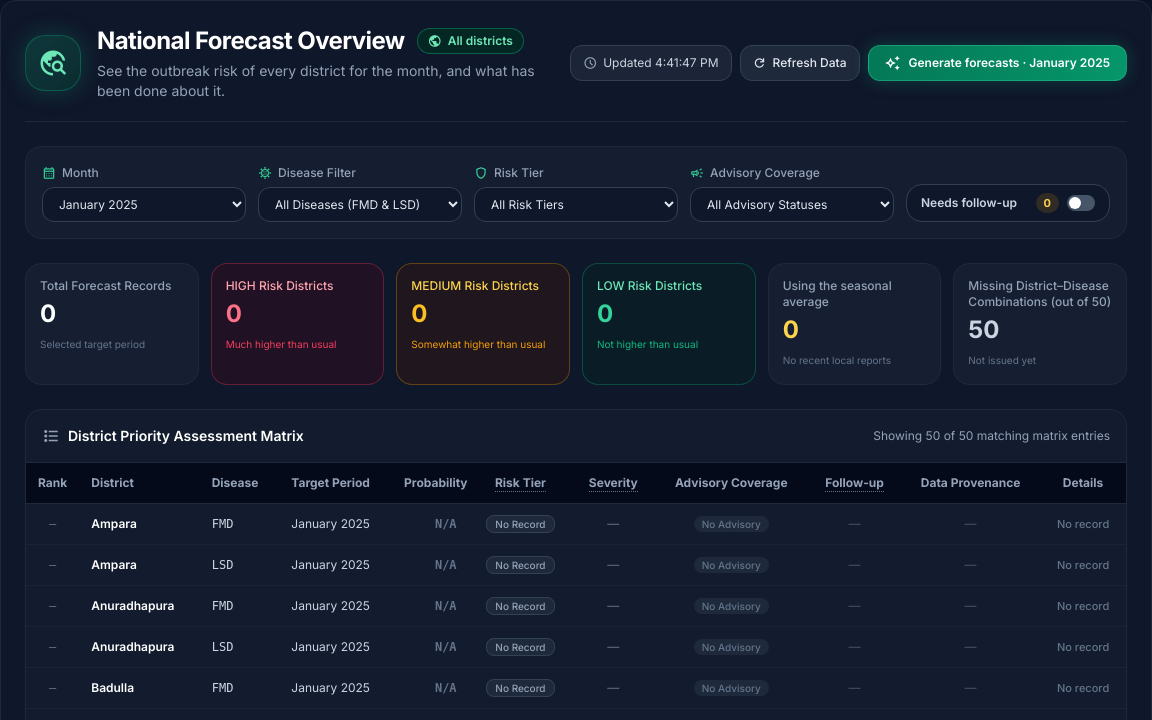
Scenario: DaphNationalForecastOverview Component › Target Period & Zero Fabrication Policy › displays clear empty state when a filter combination genuinely produces no final rows
The image size is (1152, 720).
Check: the heading "District Priority Assessment Matrix" is shown, box top-left (68, 426), bottom-right (304, 446)
Filter by HIGH risk, which will eliminate the NO_RECORD rows
Select "HIGH Risk Only" in the dropdown labelled "Risk Tier" at (576, 204), box top-left (474, 187), bottom-right (678, 222)
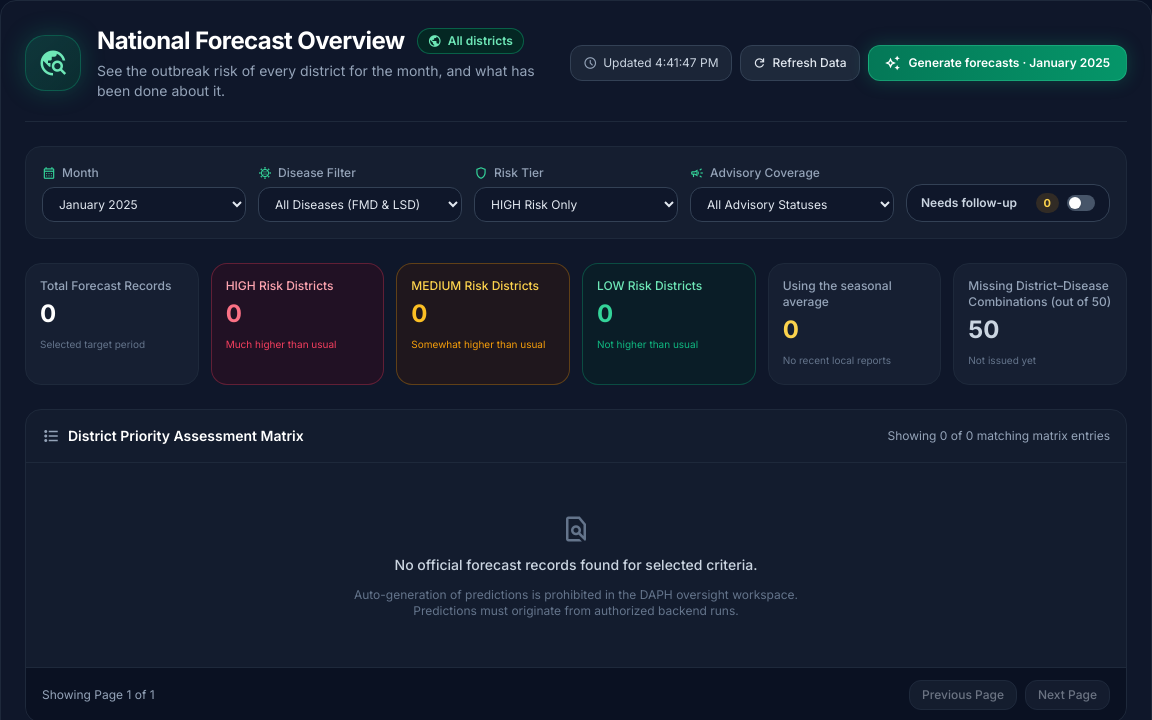
Check: the text "No official forecast records found for selected criteria." is shown, box top-left (395, 555), bottom-right (758, 575)
